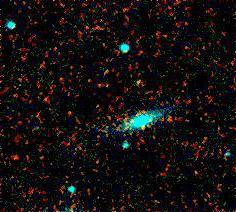star: (126, 139, 156, 169)
